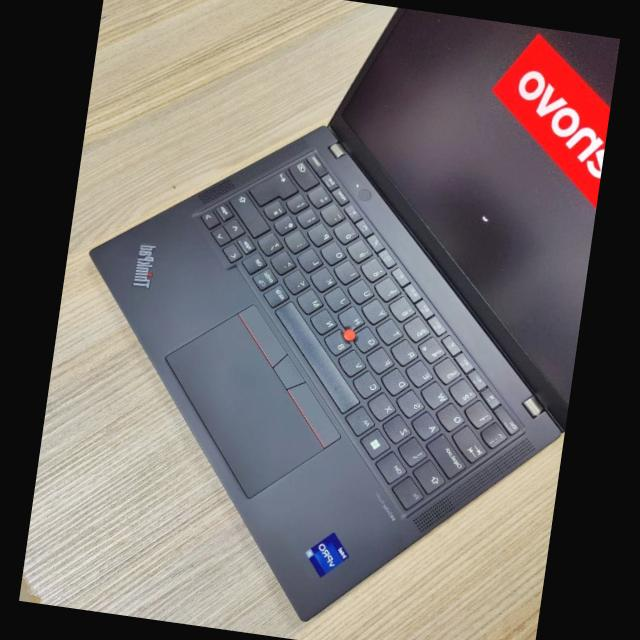laptop: (92, 8, 621, 619)
